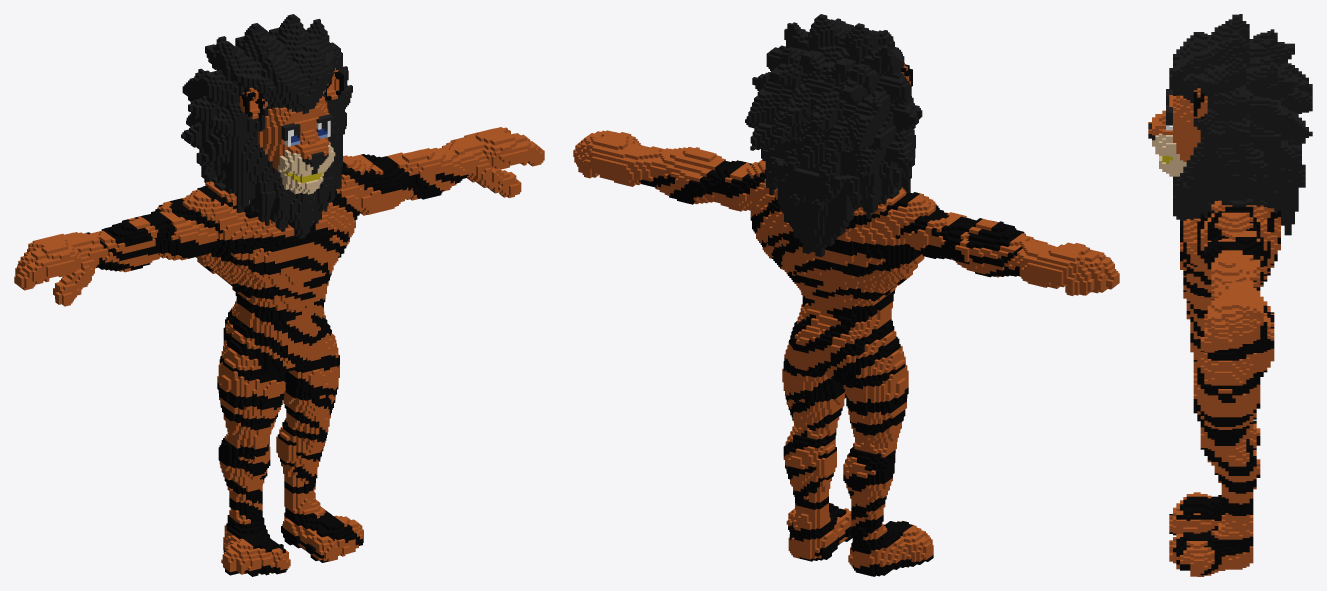
The model's file is 946-CLS6-77p.fbx.
3 renders of one model, left to right at view 1: azimuth 30°, elevation 25°; view 2: azimuth 150°, elevation 25°; view 3: azimuth 270°, elevation 25°, orthographic. The views are drawn at different scales.
Visible parts, largest first — view 1: gold_smile; view 2: gold_smile; view 3: gold_smile.
Part boxes in pixels (left/top/right/bottom): gold_smile: left=14, top=14, right=544, bottom=576; gold_smile: left=573, top=14, right=1119, bottom=576; gold_smile: left=1148, top=14, right=1312, bottom=576.
Bounding box in the file's own units: 17.2 × 16.5 × 4.7.
4 materials, 4 textured.
